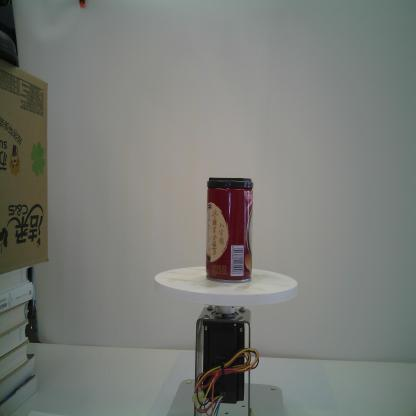Canned Food: (205, 176, 255, 285)
